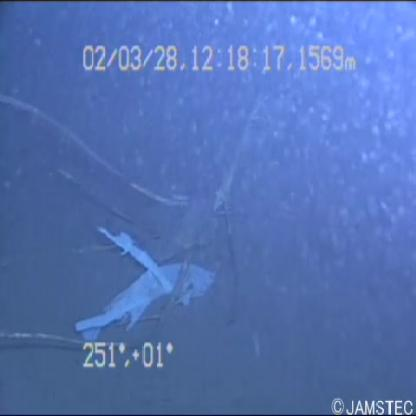Rác: (69, 204, 222, 356)
